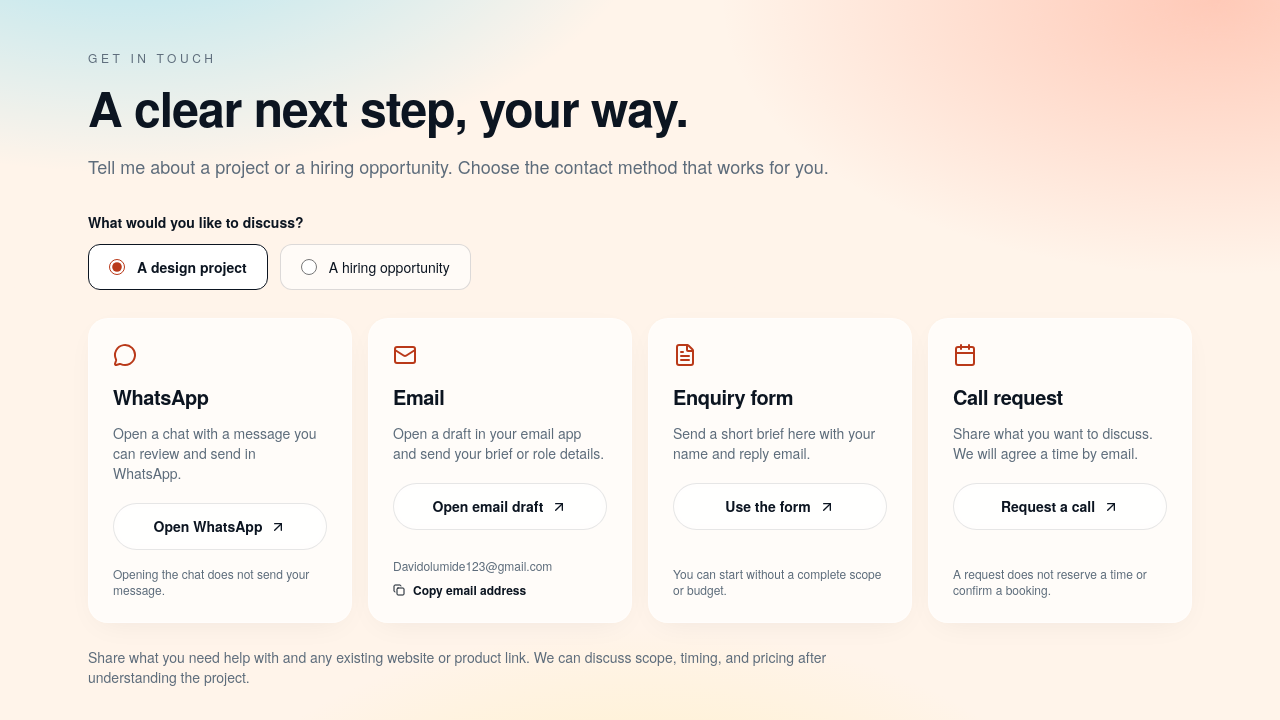
Test: contact choices › validates the minimum brief without sending an empty enquiry
Click the button "Use the form" at (780, 507), box x1=673 y1=483 x2=887 y2=530
(page scrolled)
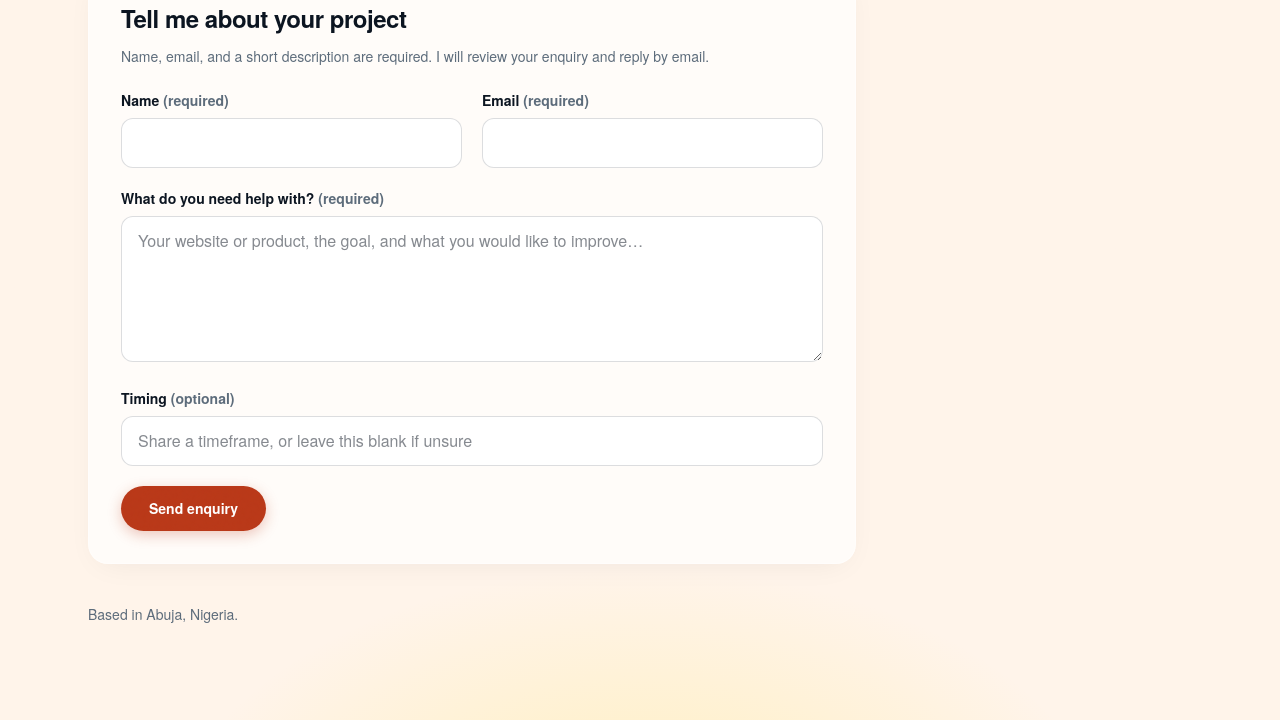
Click the button "Send enquiry" at (194, 509), box x1=121 y1=486 x2=266 y2=531
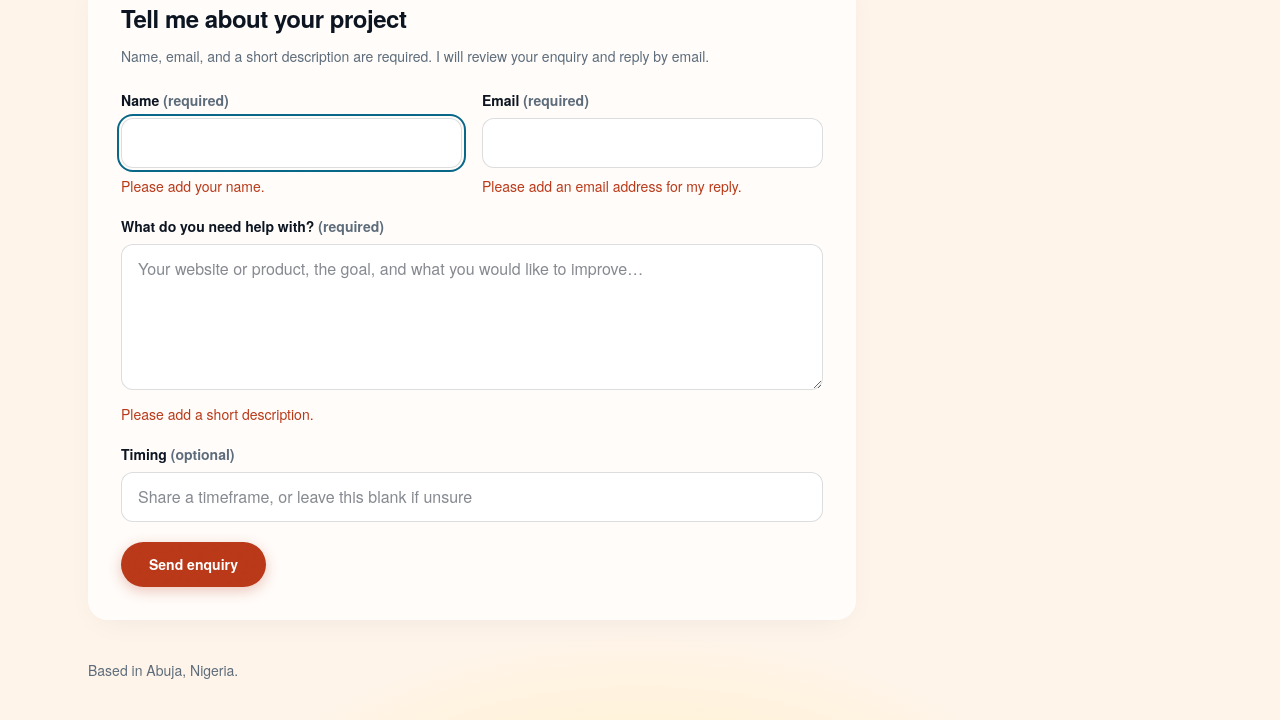
Expected: the text "Please add a short description." is shown, x1=121 y1=404 x2=314 y2=424
